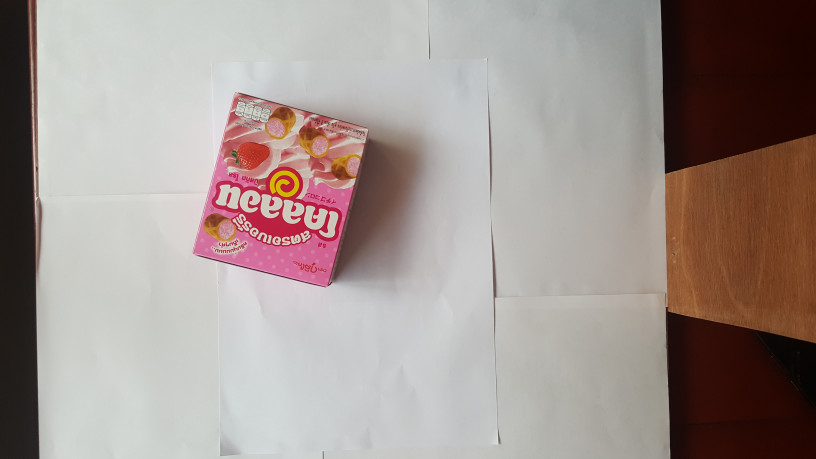collon-strawberry: (190, 90, 372, 289)
